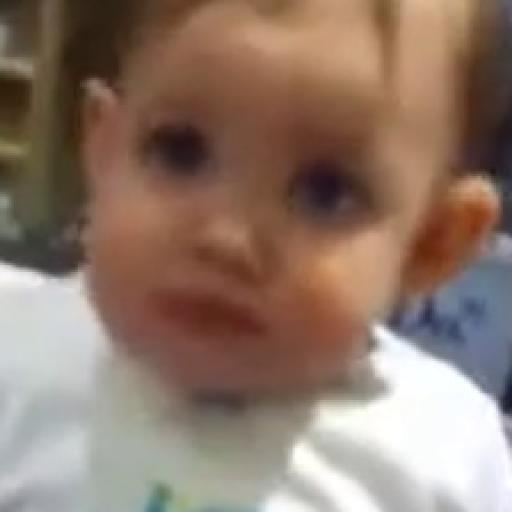Autism: (94, 23, 512, 400)
